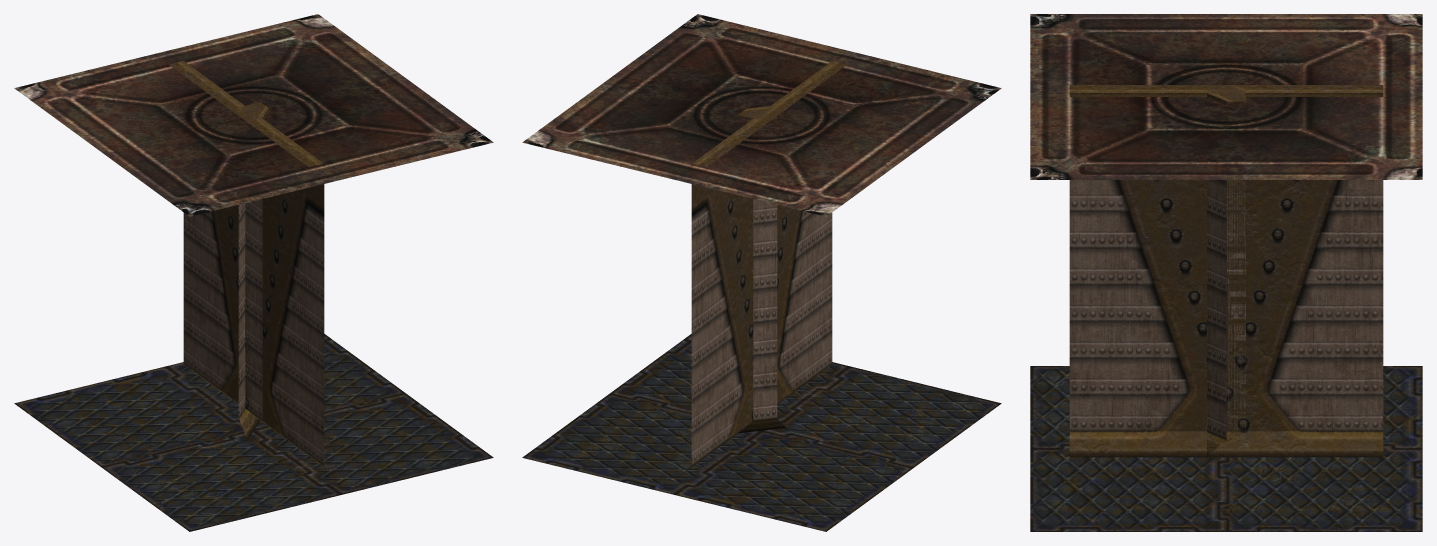
The model's file is qtile-tech-4.obj.
The picture shows the model from 3 angles, left to right: view 1: azimuth 30°, elevation 25°; view 2: azimuth 150°, elevation 25°; view 3: azimuth 270°, elevation 25°; orthographic projection. The views are drawn at different scales.
Parts seen in each view (by area): view 1: ceiling_Plane.001, floor_Plane, wall_Plane.009, filler_Plane.005, corner-outer_Plane.011; view 2: ceiling_Plane.001, floor_Plane, wall_Plane.009, corner-outer_Plane.011; view 3: wall_Plane.009, ceiling_Plane.001, floor_Plane, corner-inner_Plane.010, filler_Plane.005.
Part boxes in pixels (<box>): ceiling_Plane.001: <box>14,14,493,216</box>; floor_Plane: <box>14,334,493,531</box>; wall_Plane.009: <box>169,61,337,476</box>; filler_Plane.005: <box>239,107,266,424</box>; corner-outer_Plane.011: <box>233,106,260,440</box>; ceiling_Plane.001: <box>522,14,1001,216</box>; floor_Plane: <box>522,334,1001,531</box>; wall_Plane.009: <box>678,61,846,476</box>; corner-outer_Plane.011: <box>738,116,785,433</box>; wall_Plane.009: <box>1069,85,1383,457</box>; ceiling_Plane.001: <box>1030,14,1422,179</box>; floor_Plane: <box>1030,366,1422,531</box>; corner-inner_Plane.010: <box>1207,85,1245,456</box>; filler_Plane.005: <box>1207,85,1245,456</box>.
Bounding box in the file's own units: 1 × 1 × 1.
3 materials, 3 textured.
